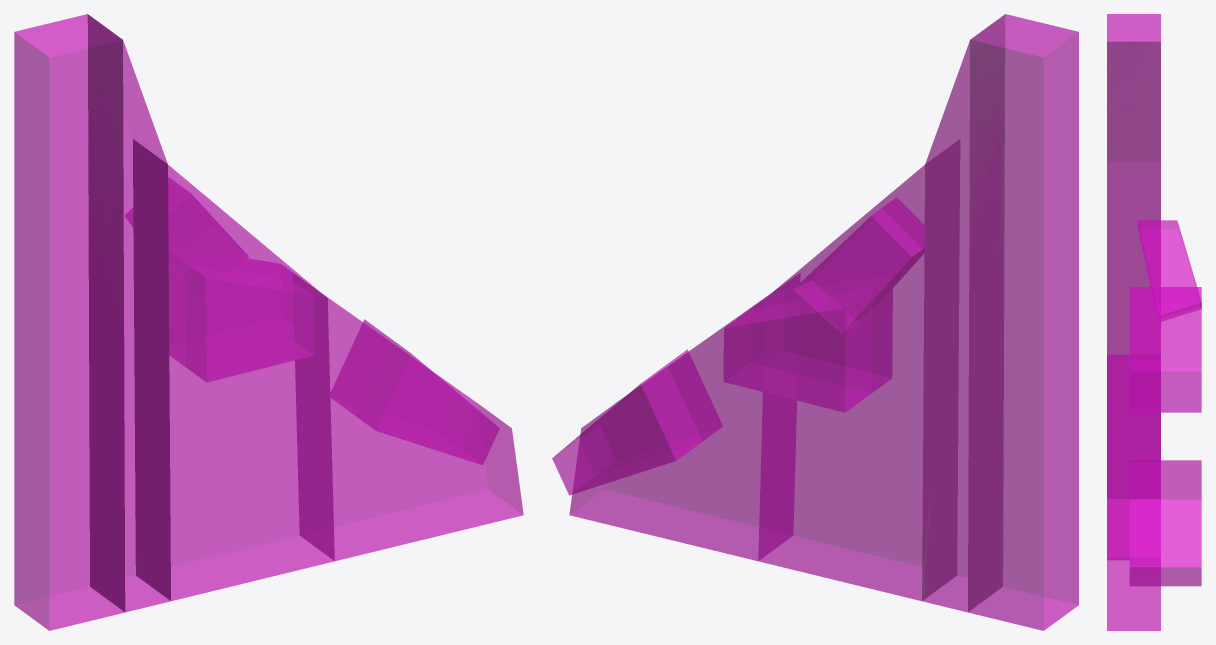
The model's file is SM_Bld_Wall_L_Damaged_02_Alt_01_Collision.fbx.
3 renders of one model, left to right at view 1: azimuth 30°, elevation 25°; view 2: azimuth 150°, elevation 25°; view 3: azimuth 270°, elevation 25°, orthographic. The views are drawn at different scales.
Visible parts, largest first — view 1: SM_Bld_Wall_L_Damaged_02_Alt_01_Collision; view 2: SM_Bld_Wall_L_Damaged_02_Alt_01_Collision; view 3: SM_Bld_Wall_L_Damaged_02_Alt_01_Collision.
Part boxes in pixels (x1,y1,x2,y2): SM_Bld_Wall_L_Damaged_02_Alt_01_Collision: (14,14,523,630); SM_Bld_Wall_L_Damaged_02_Alt_01_Collision: (552,14,1078,630); SM_Bld_Wall_L_Damaged_02_Alt_01_Collision: (1107,14,1201,630).
Size of the model in its own units: 525 by 606 by 119.
